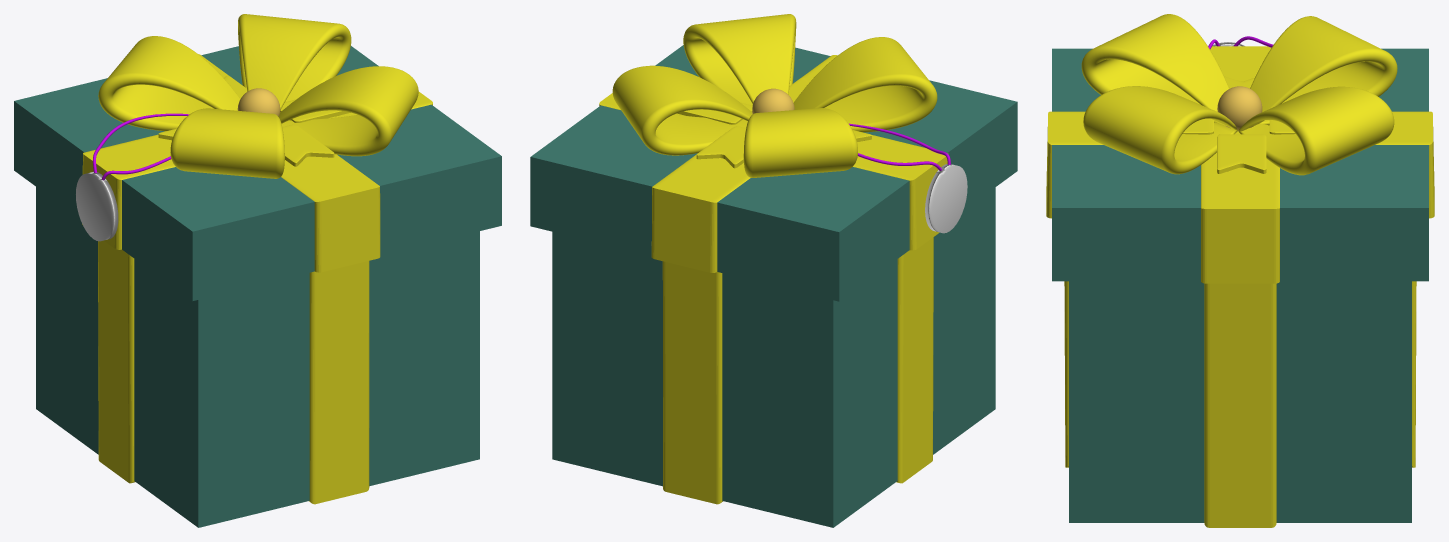
Rendered from Gift Box with texture.fbx.
The picture shows the model from 3 angles, left to right: view 1: azimuth 30°, elevation 25°; view 2: azimuth 150°, elevation 25°; view 3: azimuth 270°, elevation 25°; orthographic projection. The views are drawn at different scales.
Parts seen in each view (by area): view 1: Box, Cover, Box Ribbon Horizontal, Ribbon 2, Box Ribbon Vertical, Ribbon 1, Cover Ribbon Horizontal, Ribbon 3, Ribbon 4, Cover Ribbon Vertical, Tag, Ribbon Tight 3 (+2 smaller); view 2: Box, Cover, Box Ribbon Horizontal, Ribbon 4, Box Ribbon Vertical, Ribbon 3, Cover Ribbon Horizontal, Ribbon 1, Ribbon 2, Cover Ribbon Vertical, Tag, Ribbon Tight 4 (+3 smaller); view 3: Box, Cover, Box Ribbon Vertical, Cover Ribbon Vertical, Ribbon 1, Ribbon 3, Ribbon 4, Ribbon 2, Cover Ribbon Horizontal, Ribbon Tight 2, Box Ribbon Horizontal, Sphere.
Part boxes in pixels (bbox=[...]): Box: bbox=[36, 187, 479, 527]; Cover: bbox=[14, 46, 501, 301]; Box Ribbon Horizontal: bbox=[309, 261, 369, 504]; Ribbon 2: bbox=[98, 36, 240, 131]; Box Ribbon Vertical: bbox=[98, 240, 135, 483]; Ribbon 1: bbox=[278, 66, 418, 156]; Cover Ribbon Horizontal: bbox=[198, 54, 380, 272]; Ribbon 3: bbox=[238, 14, 351, 109]; Ribbon 4: bbox=[170, 108, 284, 178]; Cover Ribbon Vertical: bbox=[82, 91, 432, 249]; Tag: bbox=[76, 171, 118, 241]; Ribbon Tight 3: bbox=[282, 124, 334, 166]; Box: bbox=[552, 187, 995, 527]; Cover: bbox=[530, 45, 1017, 301]; Box Ribbon Horizontal: bbox=[662, 261, 722, 504]; Ribbon 4: bbox=[793, 37, 937, 132]; Box Ribbon Vertical: bbox=[896, 237, 933, 483]; Ribbon 3: bbox=[612, 65, 752, 155]; Cover Ribbon Horizontal: bbox=[651, 55, 837, 272]; Ribbon 1: bbox=[683, 14, 796, 105]; Ribbon 2: bbox=[743, 108, 857, 177]; Cover Ribbon Vertical: bbox=[599, 93, 948, 250]; Tag: bbox=[925, 164, 967, 233]; Ribbon Tight 4: bbox=[696, 126, 745, 168]; Box: bbox=[1069, 281, 1411, 522]; Cover: bbox=[1052, 48, 1428, 281]; Box Ribbon Vertical: bbox=[1204, 283, 1276, 527]; Cover Ribbon Vertical: bbox=[1201, 46, 1279, 283]; Ribbon 1: bbox=[1083, 86, 1237, 174]; Ribbon 3: bbox=[1238, 86, 1394, 175]; Ribbon 4: bbox=[1081, 14, 1229, 122]; Ribbon 2: bbox=[1250, 16, 1397, 125]; Cover Ribbon Horizontal: bbox=[1046, 111, 1434, 218]; Ribbon Tight 2: bbox=[1217, 134, 1266, 173]; Box Ribbon Horizontal: bbox=[1064, 281, 1416, 467]; Sphere: bbox=[1217, 86, 1262, 131].
Size of the model in its own units: 234 by 249 by 226.
